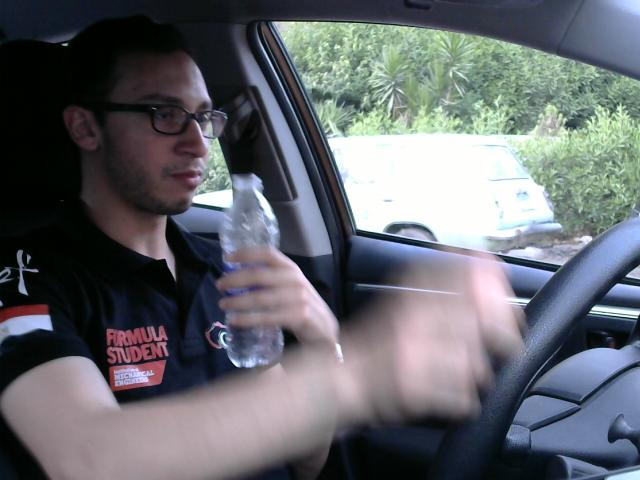Drinking: (216, 170, 286, 372)
